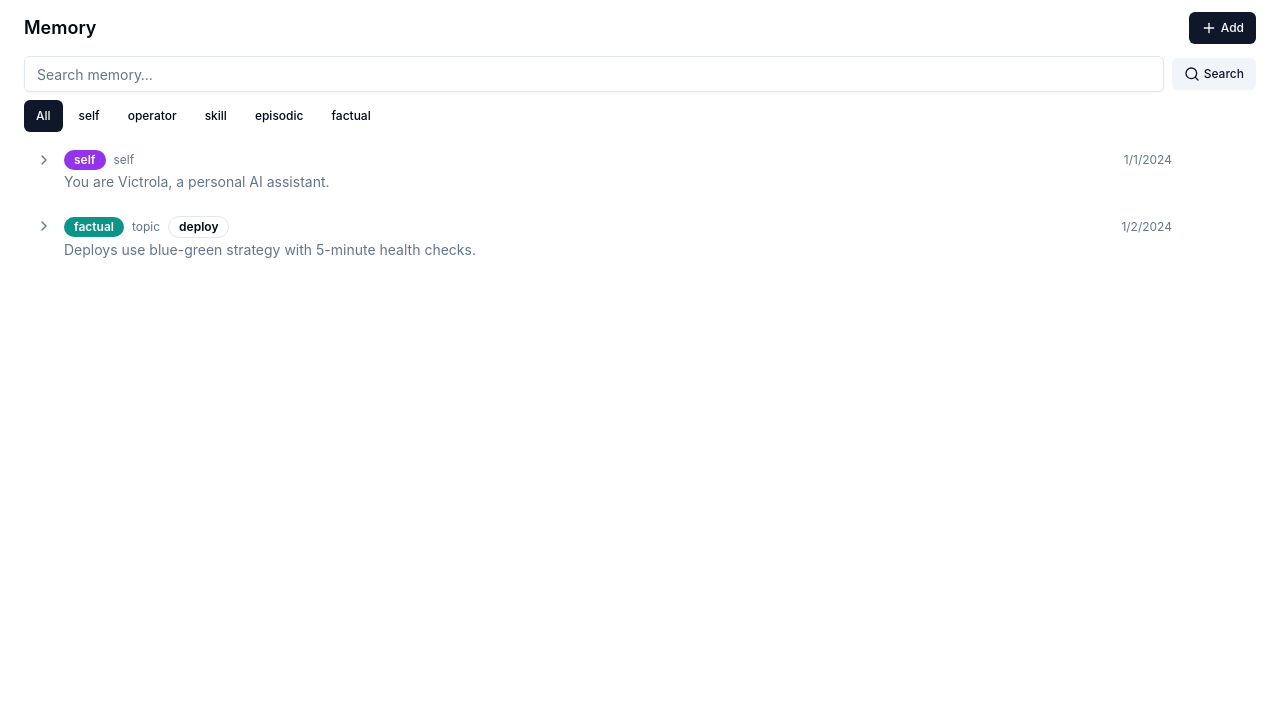
MemoryView › opens add dialog on button click
Click the button "Add". click: click(1222, 28)
box: [1189,12,1256,44]
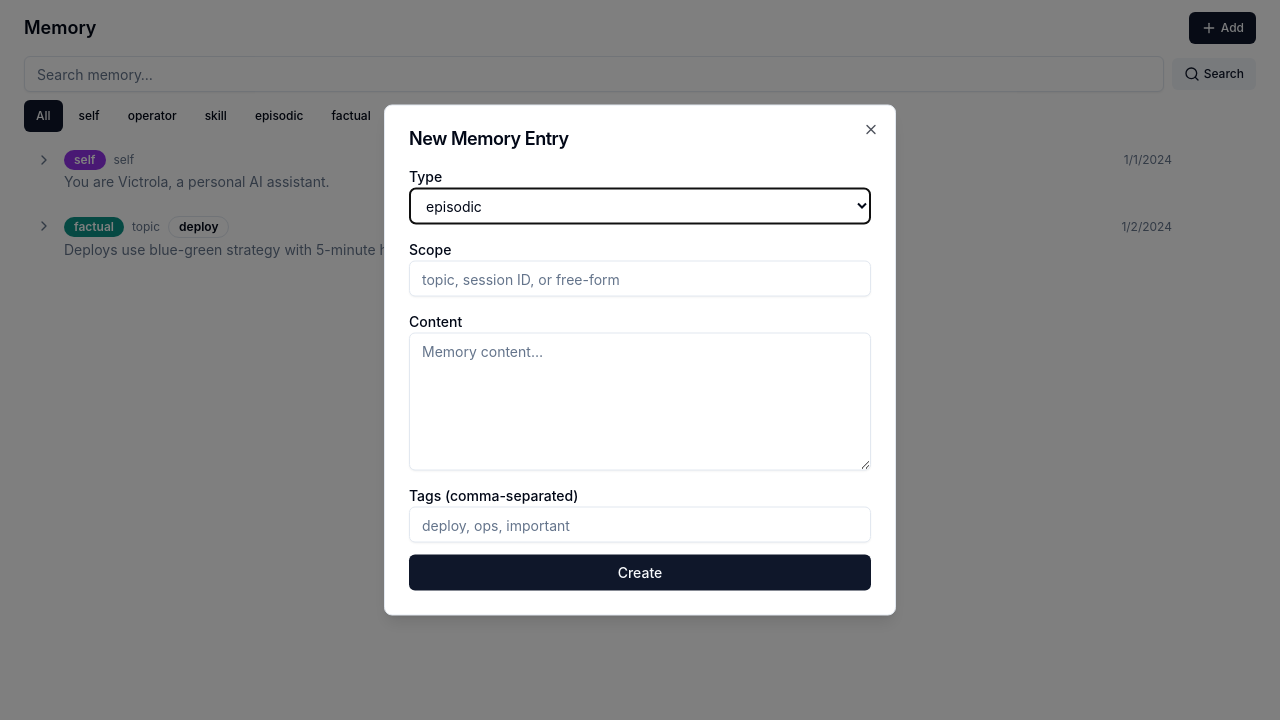
expect the heading "New Memory Entry" is shown: met, box [409,128,569,148]
expect the text box with placeholder "Memory content…" is shown: met, box [409,332,871,470]
